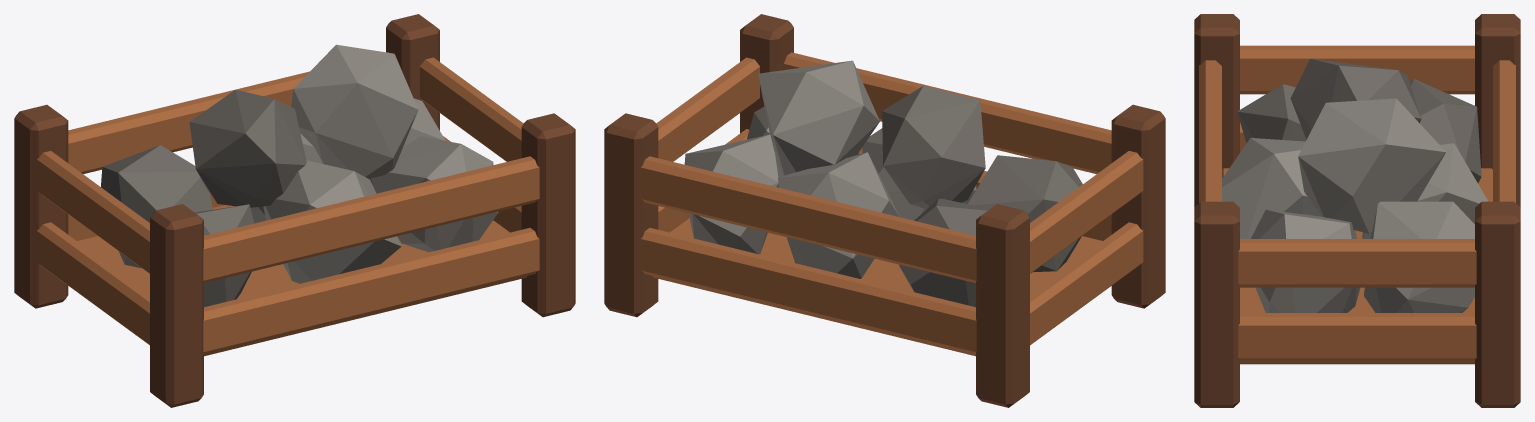
File: Lodge_RockBasket.fbx
The picture shows the model from 3 angles, left to right: view 1: azimuth 30°, elevation 25°; view 2: azimuth 150°, elevation 25°; view 3: azimuth 270°, elevation 25°; orthographic projection. The views are drawn at different scales.
Visible parts, largest first — view 1: FnWood, FnWoodDark, Rocks, Rocks2; view 2: FnWood, FnWoodDark, Rocks, Rocks2; view 3: FnWood, Rocks, FnWoodDark, Rocks2.
Boxes of the visible parts, box(x1,y1,x2,y2) form: FnWood: box(36, 52, 539, 356); FnWoodDark: box(14, 14, 575, 407); Rocks: box(250, 44, 498, 283); Rocks2: box(101, 89, 306, 307); FnWood: box(640, 52, 1143, 356); FnWoodDark: box(604, 14, 1165, 407); Rocks: box(684, 60, 976, 278); Rocks2: box(882, 85, 1082, 307); FnWood: box(1199, 45, 1515, 364); Rocks: box(1222, 98, 1488, 312); FnWoodDark: box(1194, 14, 1520, 407); Rocks2: box(1237, 58, 1481, 183).
Size of the model in its own units: 3 by 1.61 by 2.
